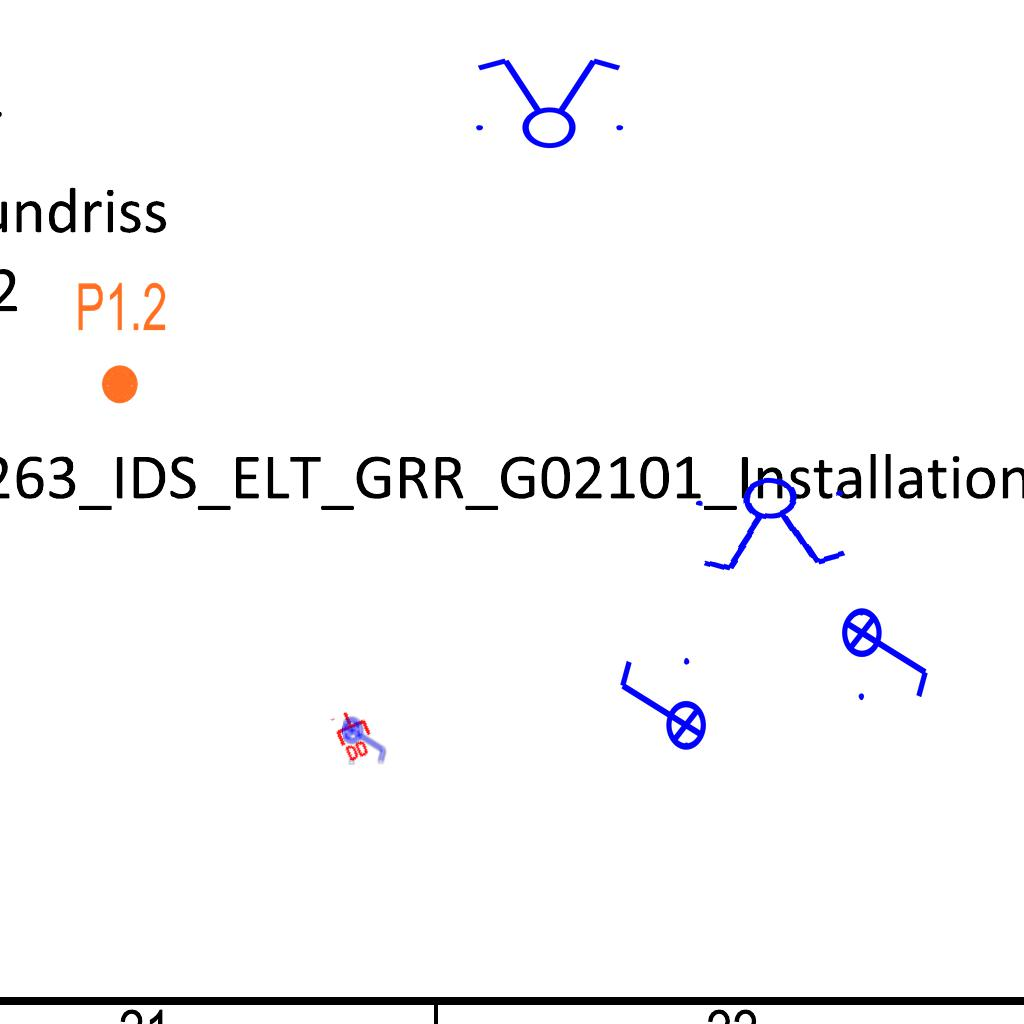Ausschalter_beleuchtet: (840, 594, 936, 706), (612, 652, 708, 764), (341, 711, 389, 767)
Datenanschluss_zweifach: (329, 704, 381, 765)
Downlight_LED_Einbauleuchten_Flur: (75, 279, 168, 407)
Serienschalter: (685, 470, 861, 578), (464, 54, 632, 150)
